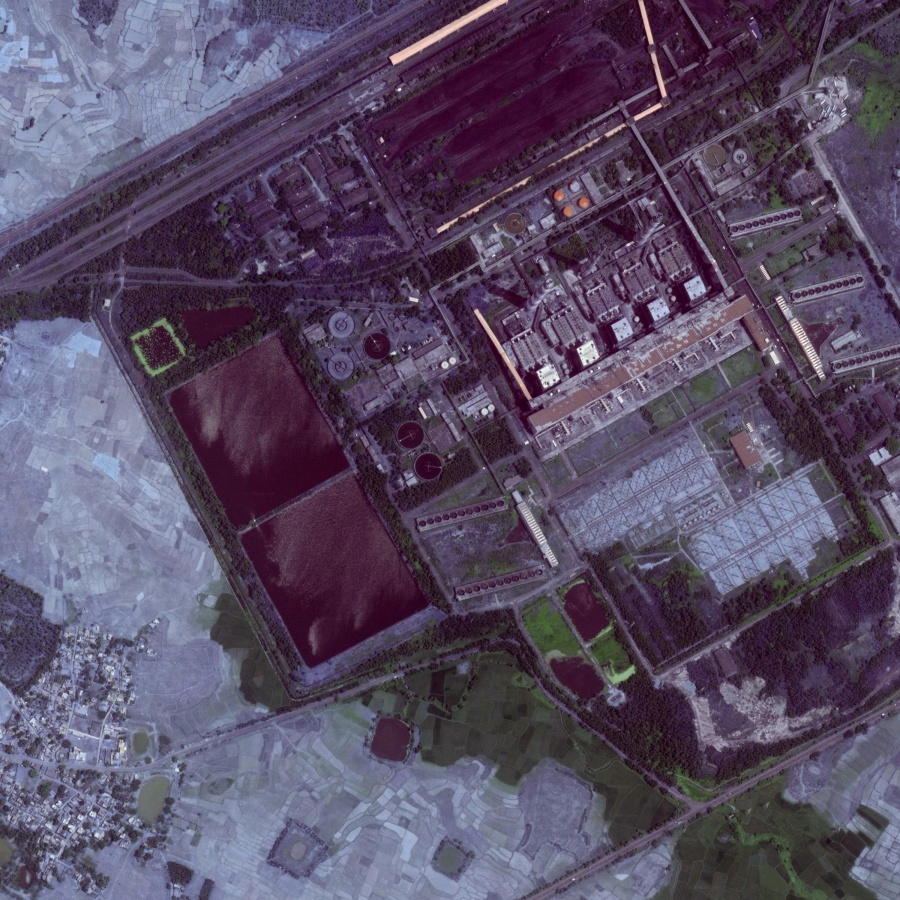PowerPlant: (140, 309, 502, 712)
